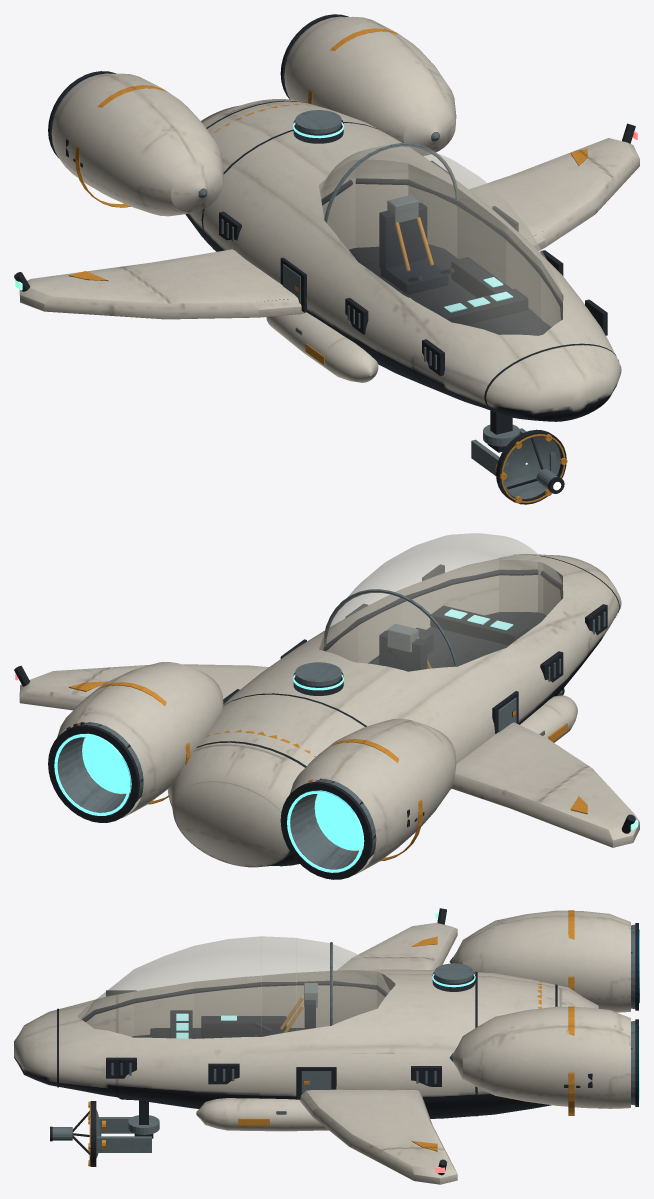
File: player_ship.glb
The picture shows the model from 3 angles, top to bottom: view 1: azimuth 30°, elevation 25°; view 2: azimuth 150°, elevation 25°; view 3: azimuth 270°, elevation 25°; orthographic projection. The views are drawn at different scales.
Parts seen in each view (by area): view 1: hull, engine_nacelle_1, canopy, wings_delta, cockpit, hull_trim, cargo_pod_1, mining_dish, cockpit_frame, scanner_dish_1, engine_core, dish_yoke; view 2: hull, engine_nacelle_1, canopy, wings_delta, engine_core, cockpit, emissive, hull_trim, cockpit_frame, cargo_pod_1, scanner_dish_1; view 3: hull, engine_nacelle_1, canopy, wings_delta, hull_trim, cargo_pod_1, cockpit, cockpit_frame, dish_yoke, engine_core, scanner_dish_1, mining_dish (+2 smaller).
Part boxes in pixels (x1,y1,x2,y2): hull: (185, 99, 621, 421); engine_nacelle_1: (51, 16, 456, 216); canopy: (320, 145, 562, 335); wings_delta: (14, 123, 639, 319); cockpit: (356, 195, 551, 335); hull_trim: (201, 100, 618, 434); cargo_pod_1: (266, 313, 378, 382); mining_dish: (496, 429, 567, 504); cockpit_frame: (321, 143, 562, 320); scanner_dish_1: (293, 110, 343, 143); engine_core: (48, 14, 348, 157); dish_yoke: (471, 428, 555, 481); hull: (167, 554, 621, 867); engine_nacelle_1: (57, 662, 456, 874); canopy: (321, 533, 562, 671); wings_delta: (14, 664, 639, 847); engine_core: (48, 722, 376, 879); cockpit: (368, 605, 528, 671); emissive: (54, 609, 513, 872); hull_trim: (196, 554, 619, 779); cockpit_frame: (323, 569, 562, 666); cargo_pod_1: (520, 695, 577, 742); scanner_dish_1: (293, 662, 343, 695); hull: (14, 969, 598, 1118); engine_nacelle_1: (449, 910, 630, 1115); canopy: (81, 936, 389, 1038); wings_delta: (299, 908, 457, 1184); hull_trim: (57, 971, 557, 1124); cargo_pod_1: (196, 1098, 328, 1131); cockpit: (150, 983, 317, 1038); cockpit_frame: (81, 942, 387, 1025); dish_yoke: (96, 1117, 153, 1152); engine_core: (631, 923, 638, 1106); scanner_dish_1: (432, 963, 475, 991); mining_dish: (72, 1101, 101, 1166).
Bounding box in the file's own units: 24.26 × 9.77 × 25.04.
4 materials, 4 textured.
